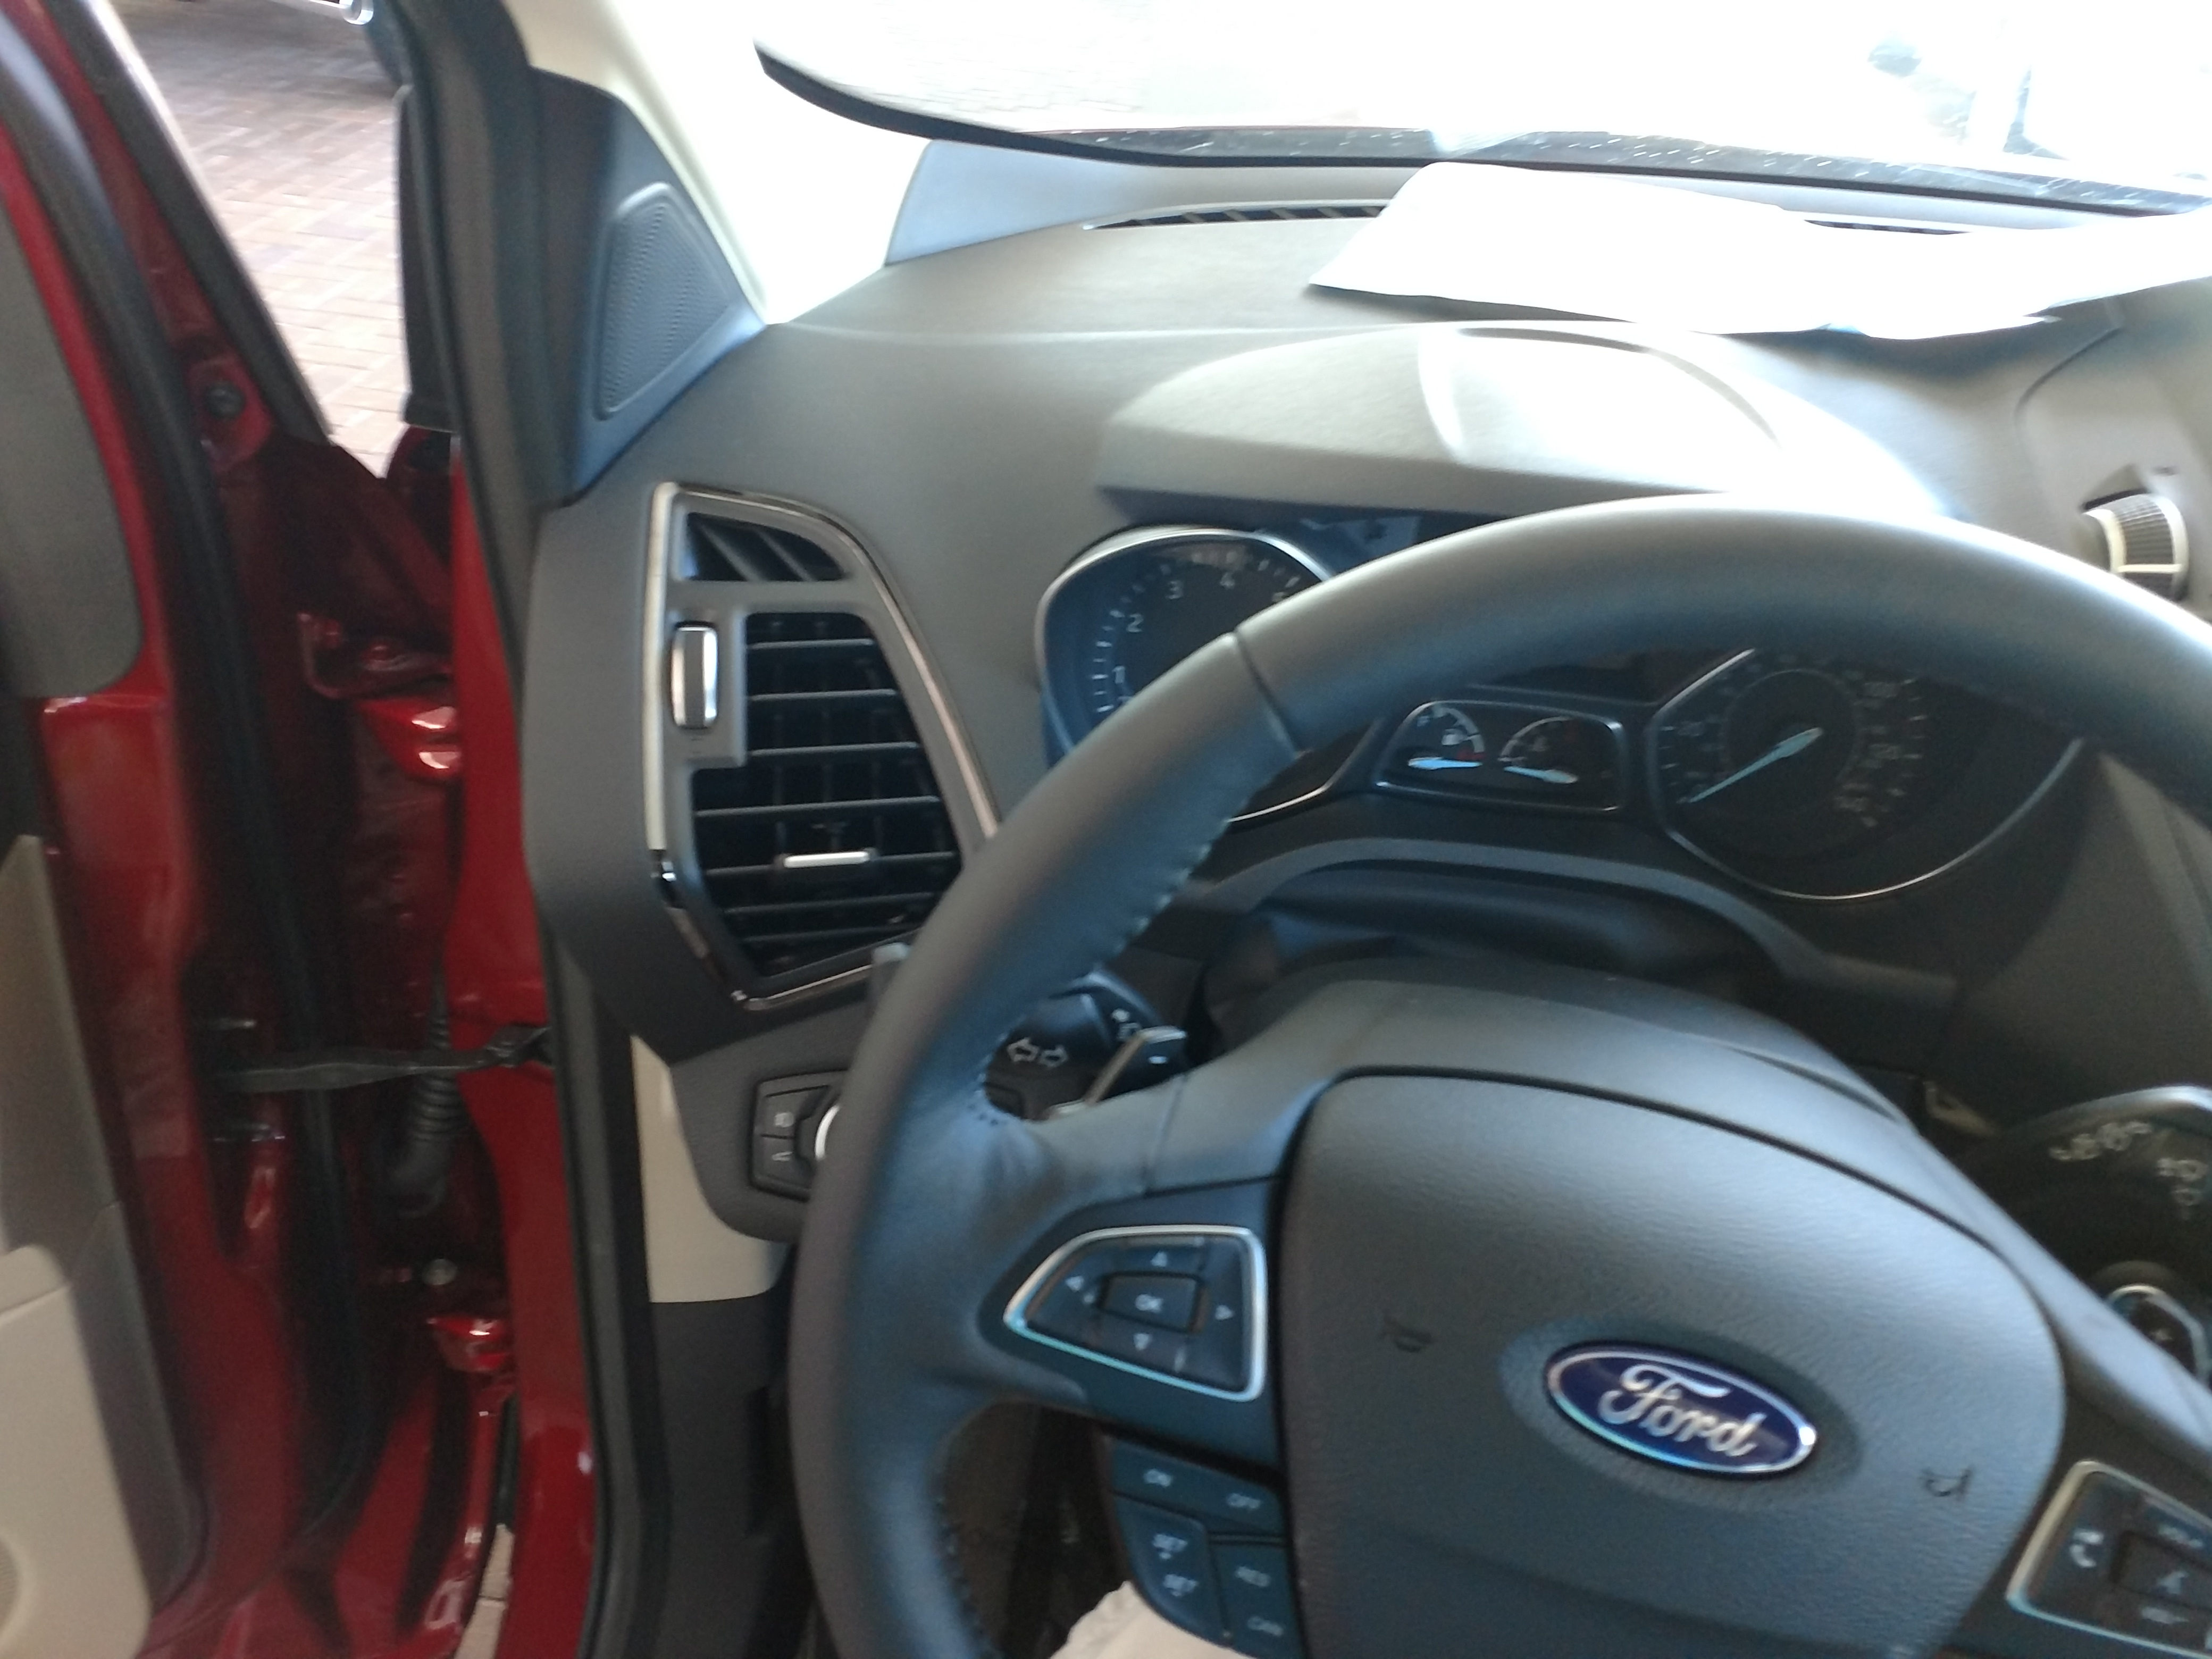Ford: (1543, 1335, 1860, 1486)
